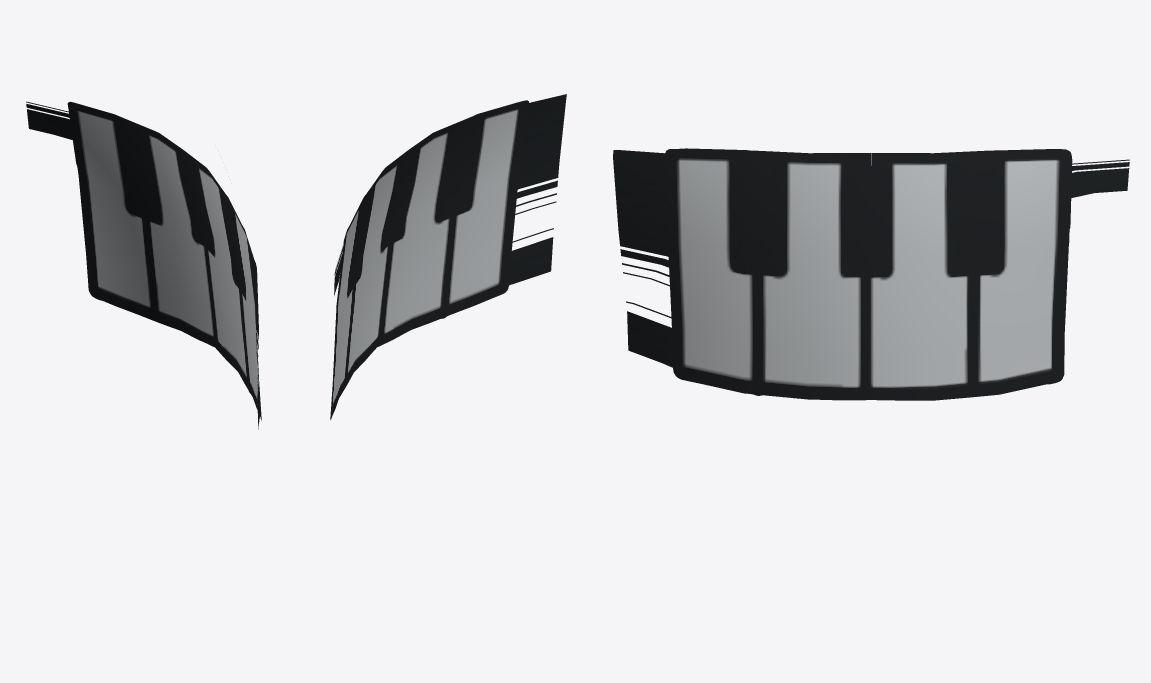
The model's file is Piano.fbx.
3 views of the same model, side by side, from view 1: azimuth 30°, elevation 25°; view 2: azimuth 150°, elevation 25°; view 3: azimuth 270°, elevation 25° (orthographic). The views are drawn at different scales.
Parts seen in each view (by area): view 1: Piano; view 2: Piano; view 3: Piano.
Boxes of the visible parts, x1,y1,x2,y2 form: Piano: (26,101,261,429); Piano: (330,94,566,419); Piano: (613,148,1129,400).
Size of the model in its own units: 15 by 71.33 by 56.36.
